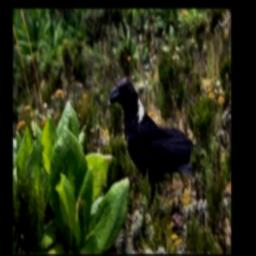Crow: (108, 75, 195, 209)
